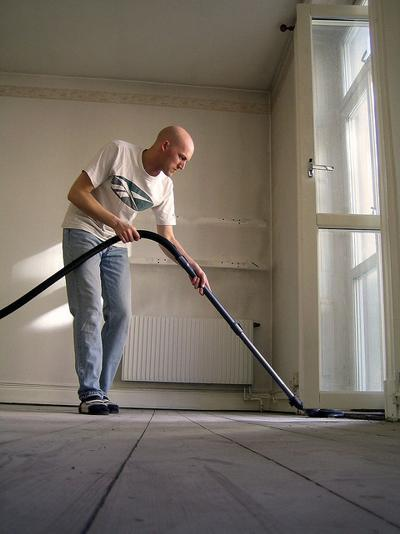person: (63, 126, 195, 416)
